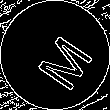M_NW: (21, 22, 89, 88)
